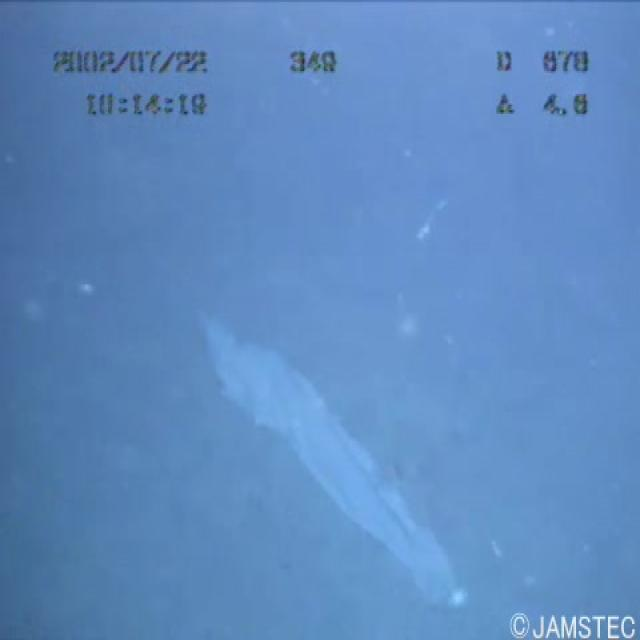plastic: (187, 302, 492, 622)
